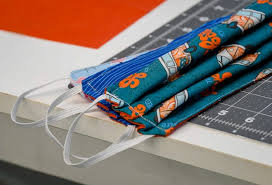flumask: (86, 1, 269, 123)
